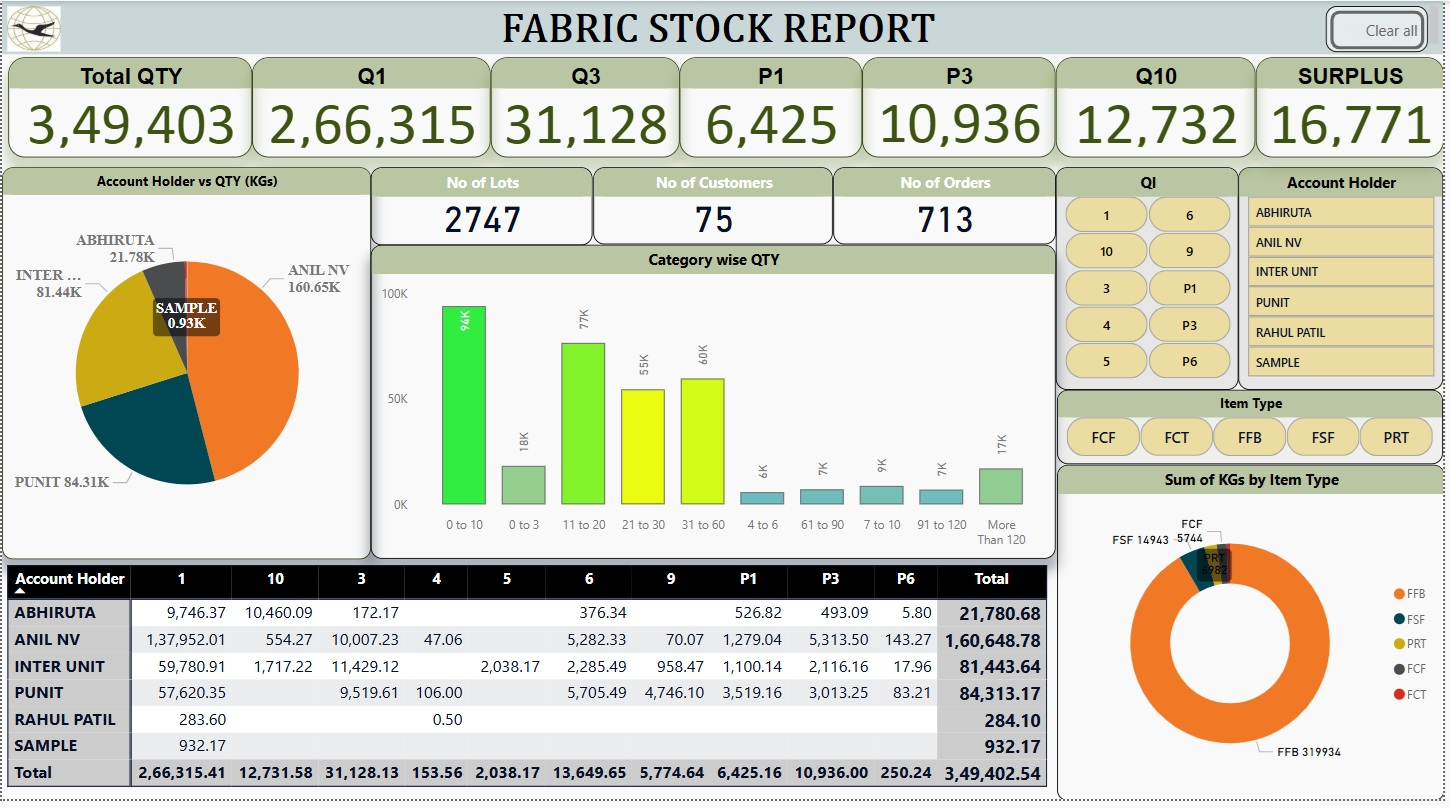

The dashboard page shown, as its layout file describes it:
{"tool":"powerbi","page":{"name":"Dashboard","canvas":[1300,720],"ordinal":0},"visuals":[{"type":"textbox","box":[0,0,1299.9,47.8],"z":0},{"type":"image","box":[0,0,57.6,50.8],"z":1000},{"type":"advancedSlicerVisual","fields":{"Values":["Stock.Account Holder"]},"box":[1114.8,150.4,184.6,200.5],"z":2000},{"type":"card","title":"Total QTY","fields":{"Values":["Stock.KGs"]},"box":[5.5,50.8,220,90.6],"z":3000},{"type":"card","title":"Q1","fields":{"Values":["Stock.KGs"]},"box":[225,50.8,215.4,90.6],"z":4000},{"type":"card","title":"Q3","fields":{"Values":["Stock.KGs"]},"box":[440.5,50.8,170.2,90.6],"z":5000},{"type":"card","title":"P1","fields":{"Values":["Stock.KGs"]},"box":[610.6,50.8,164.7,90.6],"z":6000},{"type":"card","title":"P3","fields":{"Values":["Stock.KGs"]},"box":[775.8,51.3,174.3,90],"z":7000},{"type":"card","title":"Q10","fields":{"Values":["Stock.KGs"]},"box":[950.1,51.3,180,90],"z":8000},{"type":"card","title":"SURPLUS","fields":{"Values":["Stock.KGs"]},"box":[1130.3,51.3,169.7,90],"z":9000},{"type":"pieChart","title":"Account Holder vs QTY (KGs)","fields":{"Category":["Stock.Account Holder"],"Y":["Stock.KGs"]},"box":[0,150.4,332.5,353.3],"z":10000},{"type":"advancedSlicerVisual","fields":{"Values":["Stock.Ql"]},"box":[949.8,150.4,165,200.5],"z":11000},{"type":"columnChart","title":"Category wise QTY","fields":{"Y":["Stock.KGs"],"Category":["Stock.Category"]},"box":[332.5,220,617.3,283.6],"z":12000},{"type":"pivotTable","fields":{"Rows":["Stock.Account Holder"],"Columns":["Stock.Ql"],"Values":["Stock.KGs"]},"box":[0,503.6,949.8,216.4],"z":13000},{"type":"card","title":"No of Lots","fields":{"Values":["Stock.LotNo"]},"box":[332.5,150.1,200,70],"z":14000},{"type":"card","title":"No of Customers","fields":{"Values":["Stock.CustomerName"]},"box":[533,150.4,216.4,69.7],"z":15000},{"type":"card","title":"No of Orders","fields":{"Values":["Stock.ProjectCode/ OrderNo"]},"box":[749.3,150.4,200.5,69.7],"z":16000},{"type":"donutChart","fields":{"Category":["Stock.Item Type"],"Y":["Stock.KGs"]},"box":[951,418.1,349.6,303.2],"z":17000},{"type":"advancedSlicerVisual","fields":{"Values":["Stock.Item Type"]},"box":[951,350.8,348.4,67.2],"z":18000},{"type":"actionButton","title":"RESET","box":[1193.1,4.9,91.7,41.6],"z":19000}]}

Visuals, with their boxes in screenshot pixels (x1, y1, x2, y2), scaled from the page's 1300x720 canvas onto the 1450x808 screenshot:
textbox: <bbox>0, 0, 1449, 54</bbox>
image: <bbox>0, 0, 64, 57</bbox>
advancedSlicerVisual - Stock.Account Holder: <bbox>1243, 169, 1449, 394</bbox>
"Total QTY" card: <bbox>6, 57, 252, 159</bbox>
"Q1" card: <bbox>251, 57, 491, 159</bbox>
"Q3" card: <bbox>491, 57, 681, 159</bbox>
"P1" card: <bbox>681, 57, 865, 159</bbox>
"P3" card: <bbox>865, 58, 1060, 159</bbox>
"Q10" card: <bbox>1060, 58, 1260, 159</bbox>
"SURPLUS" card: <bbox>1261, 58, 1449, 159</bbox>
"Account Holder vs QTY (KGs)" pieChart: <bbox>0, 169, 371, 565</bbox>
advancedSlicerVisual - Stock.Ql: <bbox>1059, 169, 1243, 394</bbox>
"Category wise QTY" columnChart: <bbox>371, 247, 1059, 565</bbox>
pivotTable - Stock.Account Holder x Stock.Ql: <bbox>0, 565, 1059, 807</bbox>
"No of Lots" card: <bbox>371, 168, 594, 247</bbox>
"No of Customers" card: <bbox>594, 169, 836, 247</bbox>
"No of Orders" card: <bbox>836, 169, 1059, 247</bbox>
donutChart - Stock.Item Type x Stock.KGs: <bbox>1061, 469, 1449, 807</bbox>
advancedSlicerVisual - Stock.Item Type: <bbox>1061, 394, 1449, 469</bbox>
"RESET" actionButton: <bbox>1331, 5, 1433, 52</bbox>
